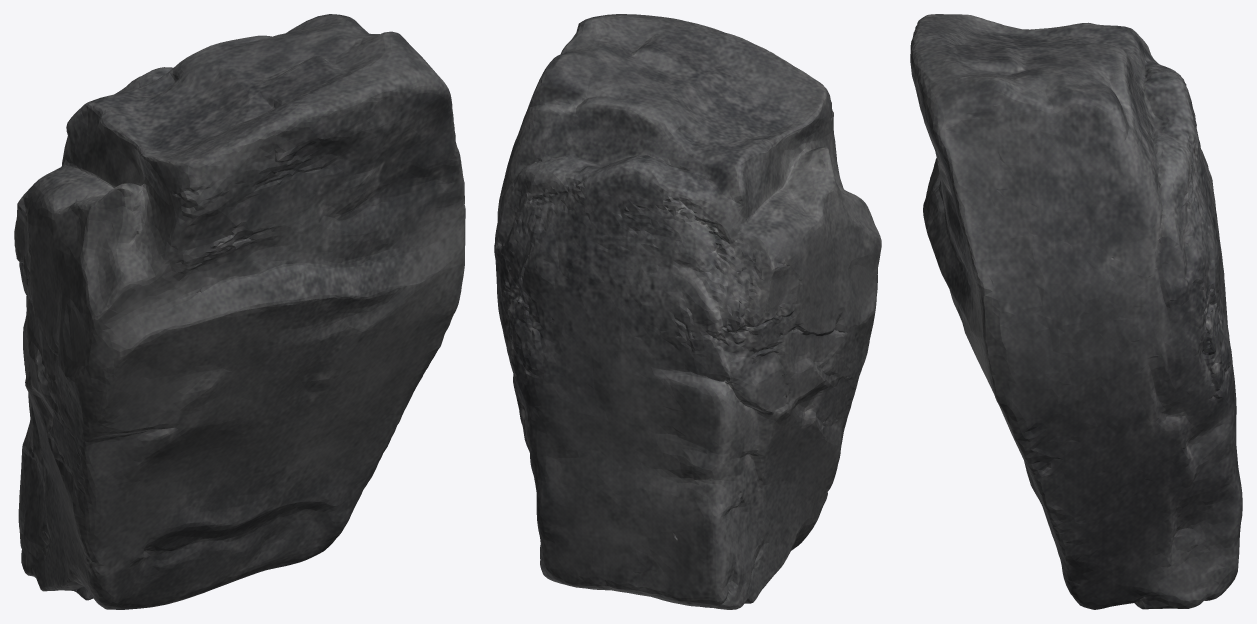
The model's file is world_C2.obj.
3 views of the same model, side by side, from view 1: azimuth 30°, elevation 25°; view 2: azimuth 150°, elevation 25°; view 3: azimuth 270°, elevation 25° (orthographic). The views are drawn at different scales.
Parts seen in each view (by area): view 1: geometry_0; view 2: geometry_0; view 3: geometry_0.
Boxes of the visible parts, left/top/right/bottom form: geometry_0: left=14, top=14, right=465, bottom=609; geometry_0: left=494, top=14, right=881, bottom=609; geometry_0: left=910, top=14, right=1242, bottom=609.
Size of the model in its own units: 0.7812 by 1.05 by 0.5749.
1 material, 1 textured.
